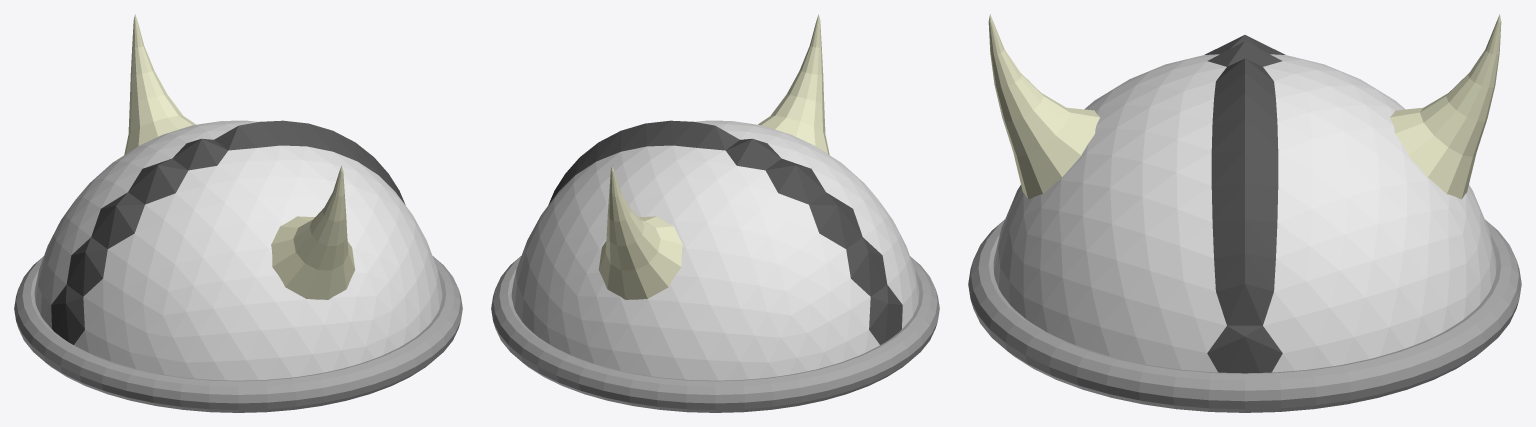
The model's file is simpleHelmet.fbx.
3 views of the same model, side by side, from view 1: azimuth 30°, elevation 25°; view 2: azimuth 150°, elevation 25°; view 3: azimuth 270°, elevation 25° (orthographic). The views are drawn at different scales.
Visible parts, largest first — view 1: Icosphere, Torus, Icosphere.001, Torus.001; view 2: Icosphere, Torus, Icosphere.001, Torus.001; view 3: Icosphere, Torus, Icosphere.001, Torus.001.
Part boxes in pixels (bbox=[...]): Icosphere: bbox=[34, 120, 442, 380]; Torus: bbox=[14, 256, 462, 412]; Icosphere.001: bbox=[51, 120, 405, 344]; Torus.001: bbox=[124, 14, 355, 299]; Icosphere: bbox=[511, 120, 919, 380]; Torus: bbox=[491, 256, 939, 412]; Icosphere.001: bbox=[548, 120, 902, 344]; Torus.001: bbox=[598, 14, 829, 299]; Icosphere: bbox=[993, 54, 1496, 372]; Torus: bbox=[968, 219, 1521, 412]; Icosphere.001: bbox=[1204, 35, 1285, 373]; Torus.001: bbox=[988, 14, 1501, 199].
Size of the model in its own units: 216 by 124 by 216.
